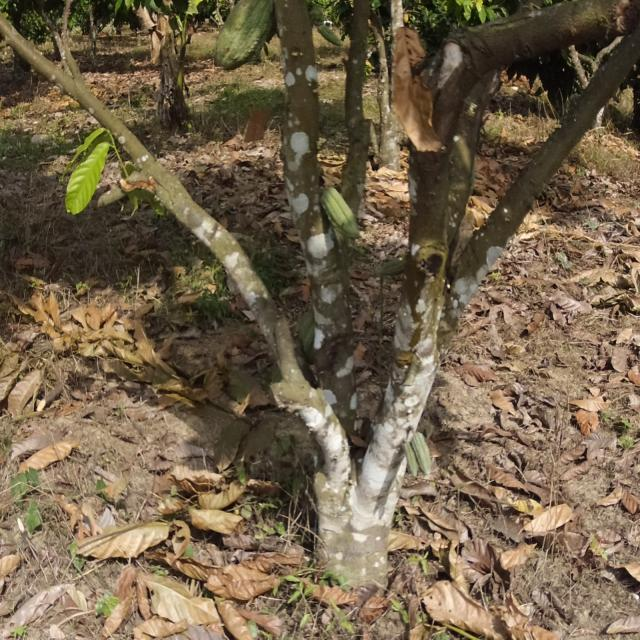Immature: (319, 184, 361, 248), (399, 432, 438, 487)
Mature_Unripe: (212, 1, 267, 66)
